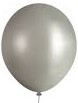Balloon: (1, 3, 76, 92)
